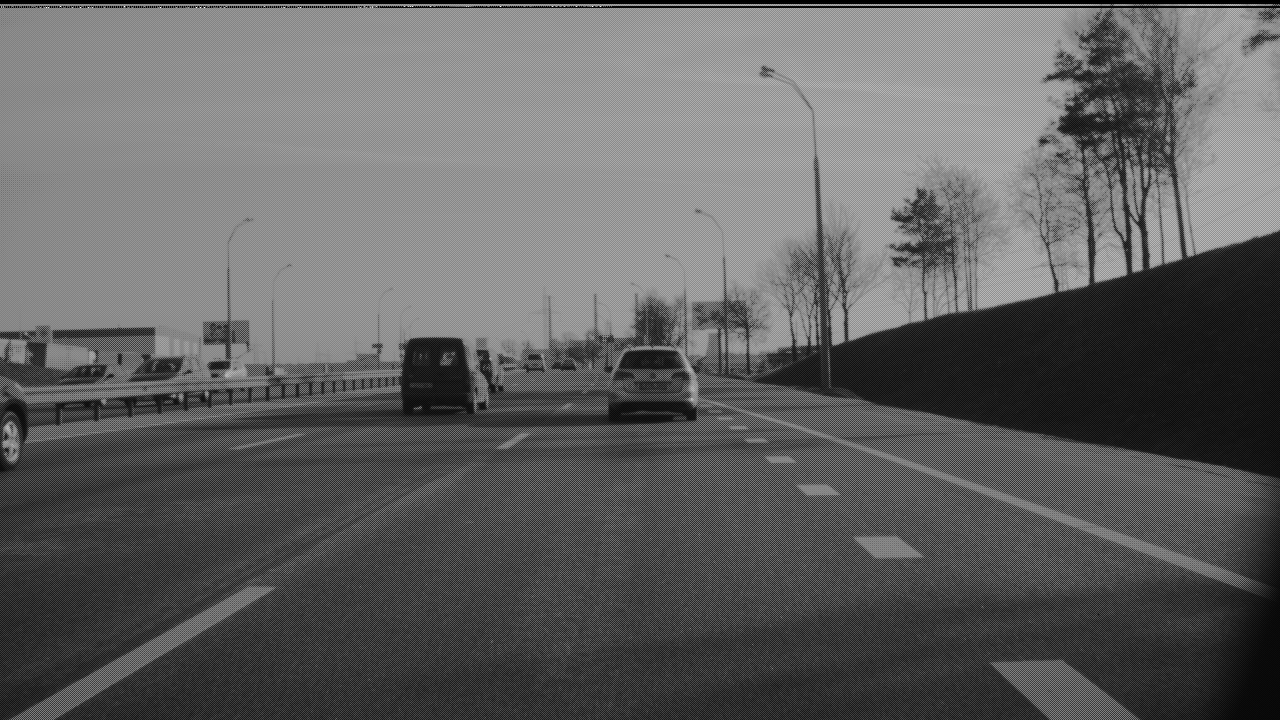pole: (810, 103, 830, 380), (721, 225, 730, 365), (225, 233, 231, 350), (271, 274, 276, 365), (376, 296, 381, 360)
